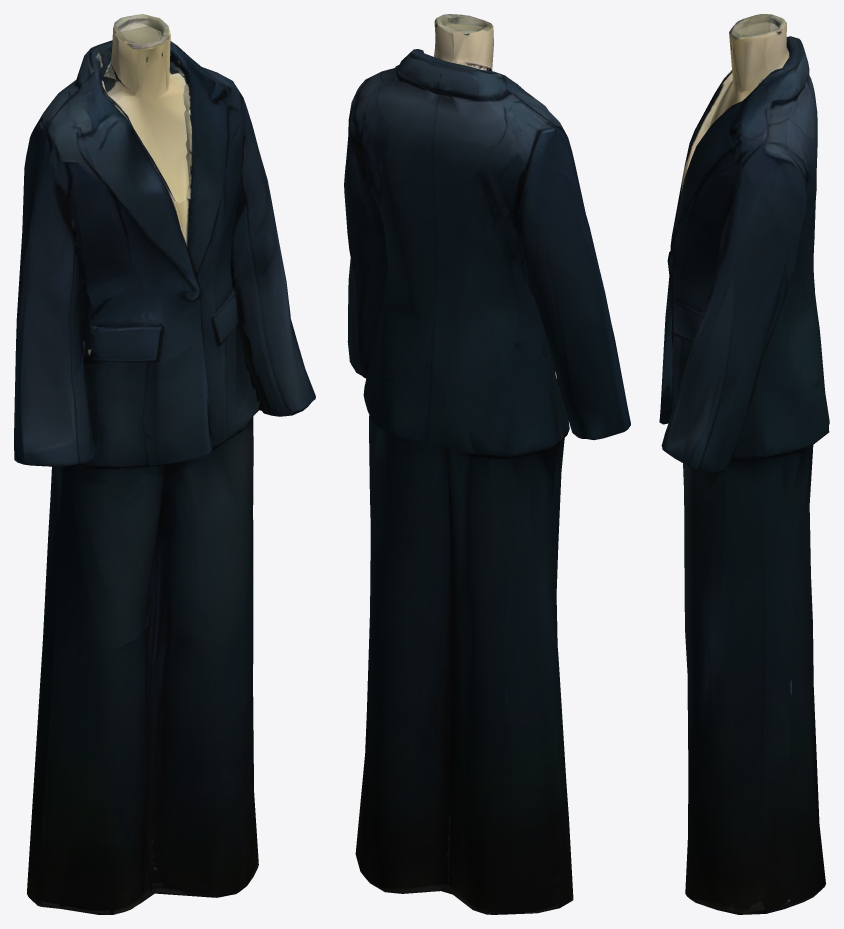
The model's file is conjuntos-basic.glb.
The picture shows the model from 3 angles, left to right: view 1: azimuth 30°, elevation 25°; view 2: azimuth 150°, elevation 25°; view 3: azimuth 270°, elevation 25°; orthographic projection.
Parts seen in each view (by area): view 1: textured_mesh; view 2: textured_mesh; view 3: textured_mesh.
Part boxes in pixels (left/top/right/bottom): textured_mesh: left=14, top=14, right=315, bottom=914; textured_mesh: left=344, top=14, right=630, bottom=914; textured_mesh: left=659, top=14, right=829, bottom=914.
Size of the model in its own units: 0.6975 by 1.99 by 0.3622.
1 material, 1 textured.
